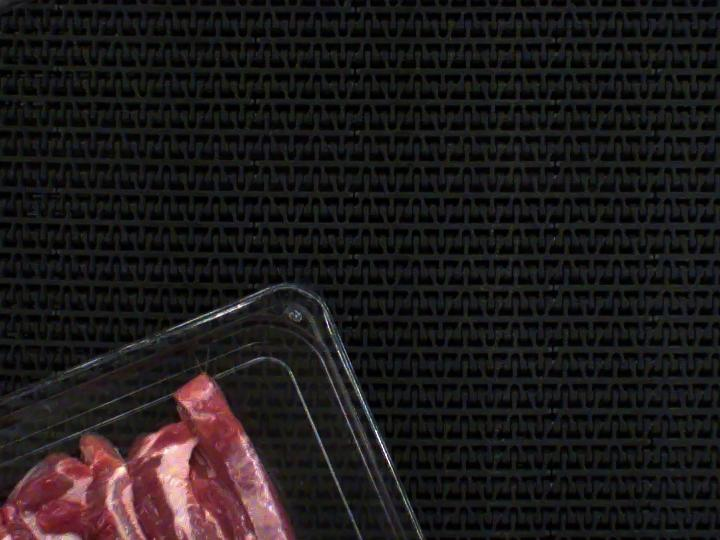loose-meat: (185, 363, 355, 540)
